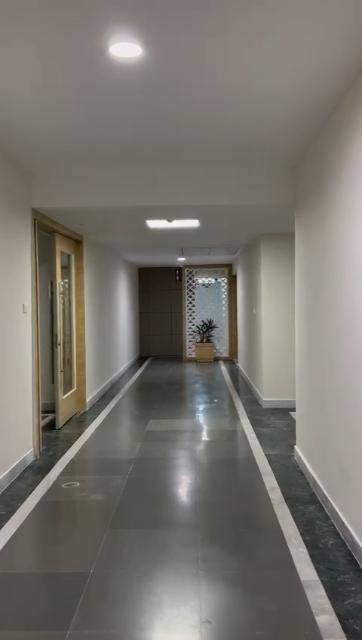door: (33, 214, 90, 428)
floor: (0, 355, 361, 640)
object: (196, 315, 220, 363)
wall: (296, 76, 362, 544), (0, 154, 34, 456), (239, 247, 305, 389), (91, 245, 141, 361)
